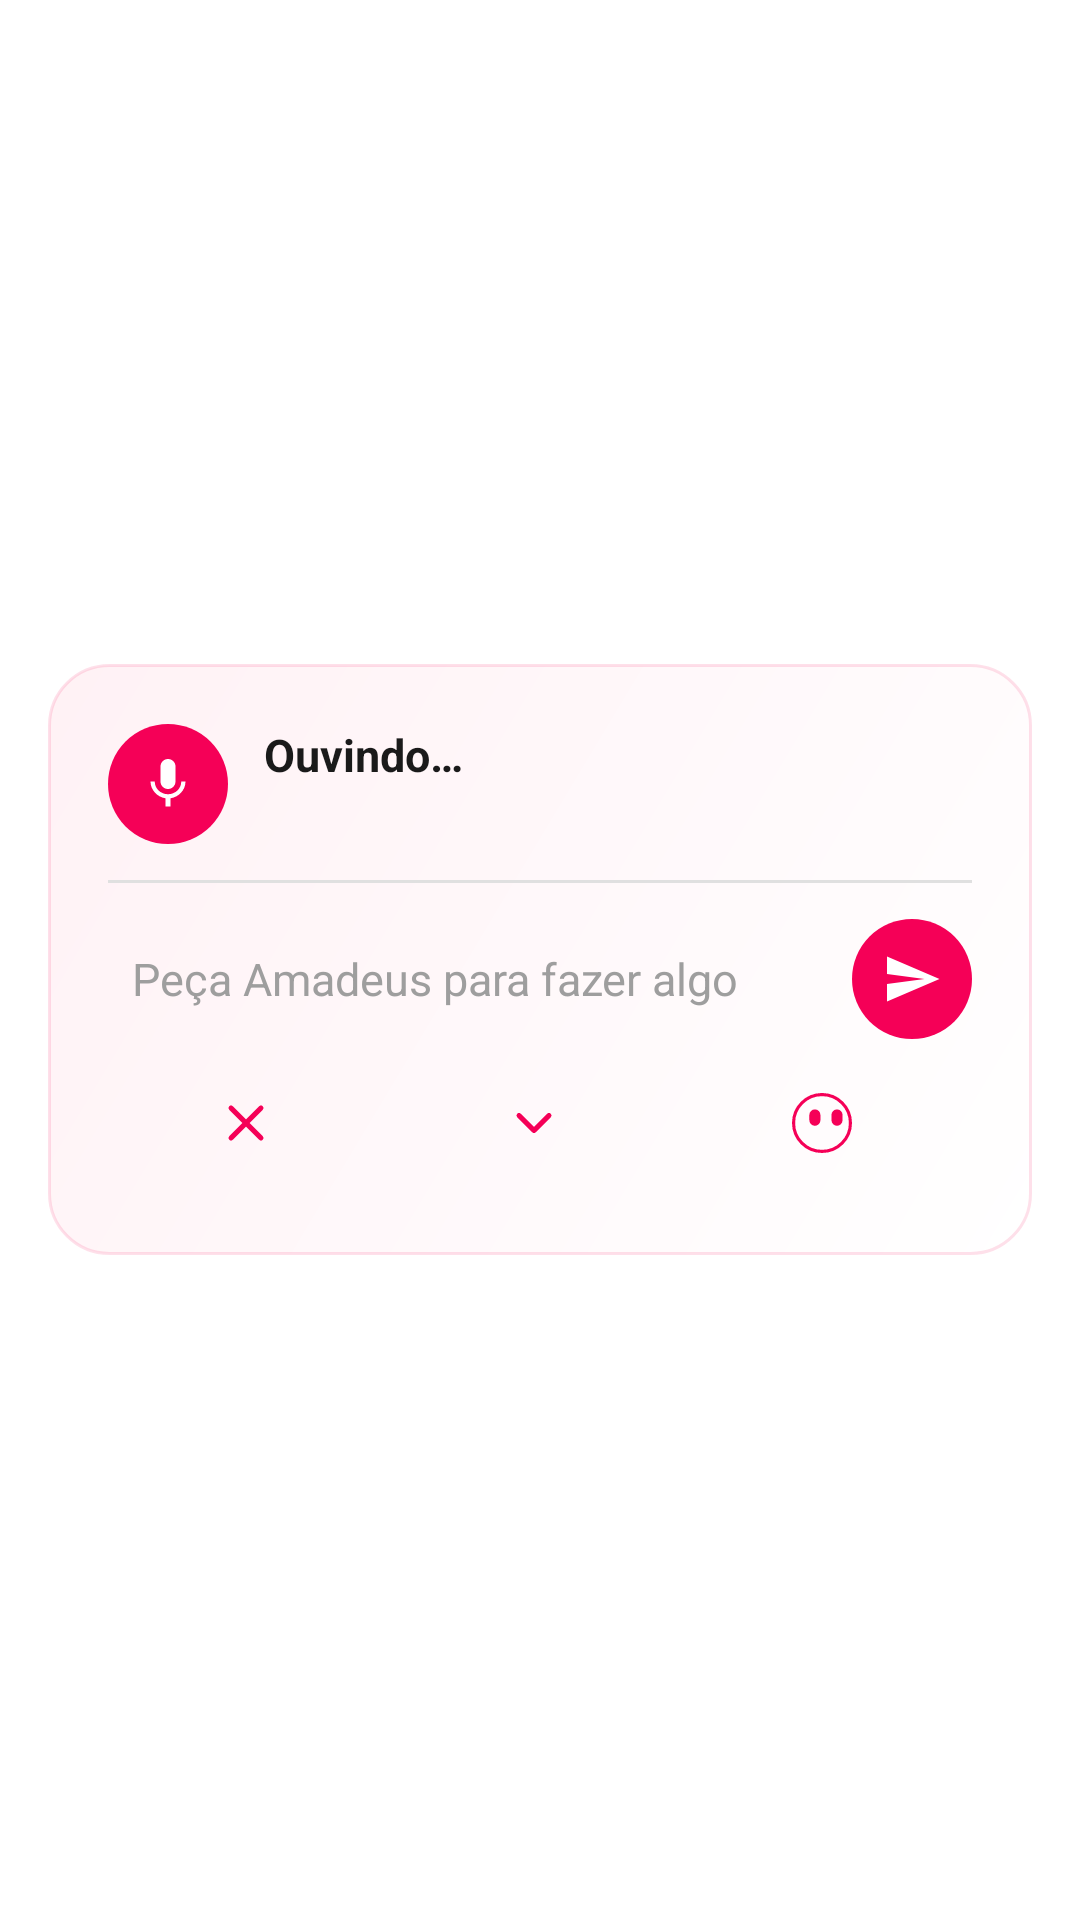

Screen size 1080*1920. Icon name, then its box in pixels as [x1=x1, y1=y1, x2=x2, y2=y2]:
arrow down: [x1=516, y1=1113, x2=552, y2=1133]
close: [x1=228, y1=1105, x2=264, y2=1141]
mic: [x1=108, y1=724, x2=228, y2=844]
send: [x1=852, y1=919, x2=972, y2=1039]
